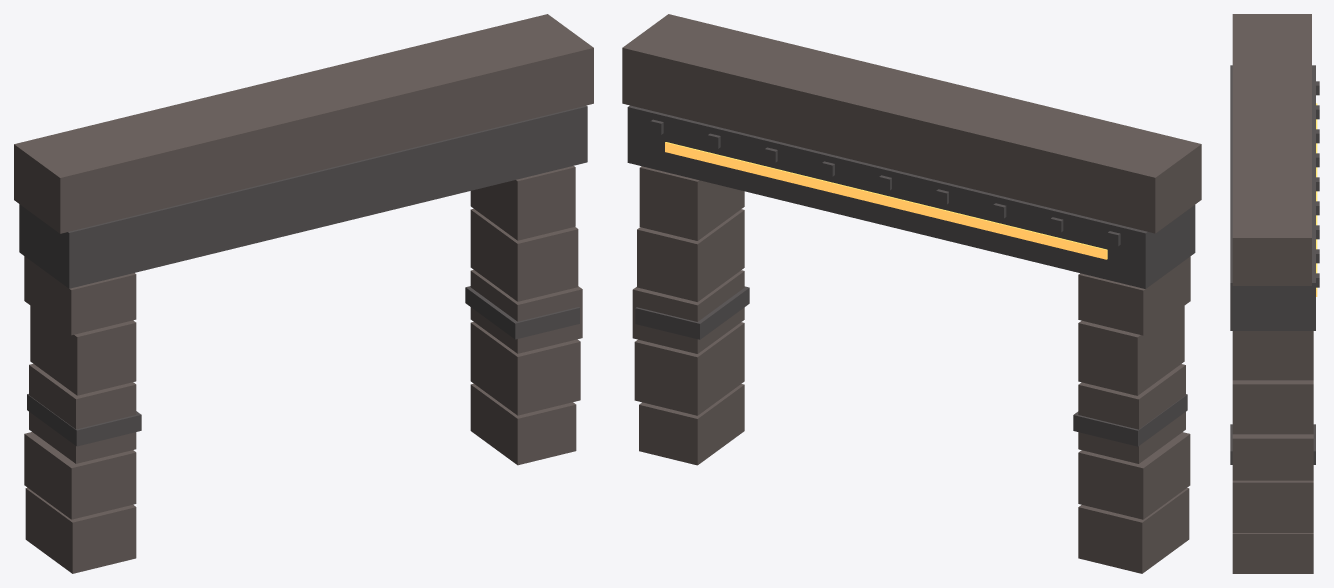
File: forge_arch.glb
3 renders of one model, left to right at view 1: azimuth 30°, elevation 25°; view 2: azimuth 150°, elevation 25°; view 3: azimuth 270°, elevation 25°, orthographic. The views are drawn at different scales.
Visible parts, largest first — view 1: forge_arch; view 2: forge_arch; view 3: forge_arch.
Part boxes in pixels (x1,y1,x2,y2): forge_arch: (14,14,593,573); forge_arch: (622,14,1201,573); forge_arch: (1230,14,1319,573).
Bounding box in the file's own units: 7 × 5 × 1.18.
